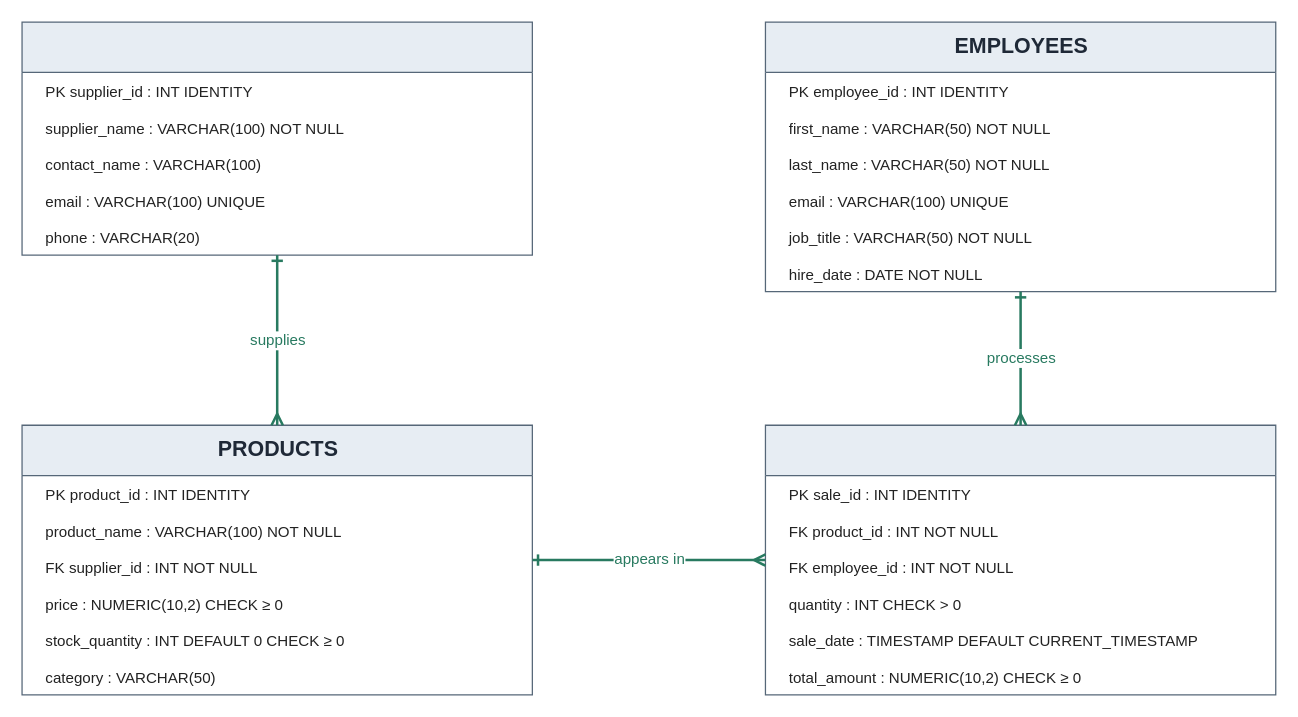
Some shapes in this 1298 by 717 pixel diagram are drawn without their labels. The shapes that lost their labels are listed below. From the top down, each one's box as (x1, y1, x2, y2) in pixels, then its label:
(21, 21, 532, 255): SUPPLIERS
(764, 424, 1276, 695): SALES
